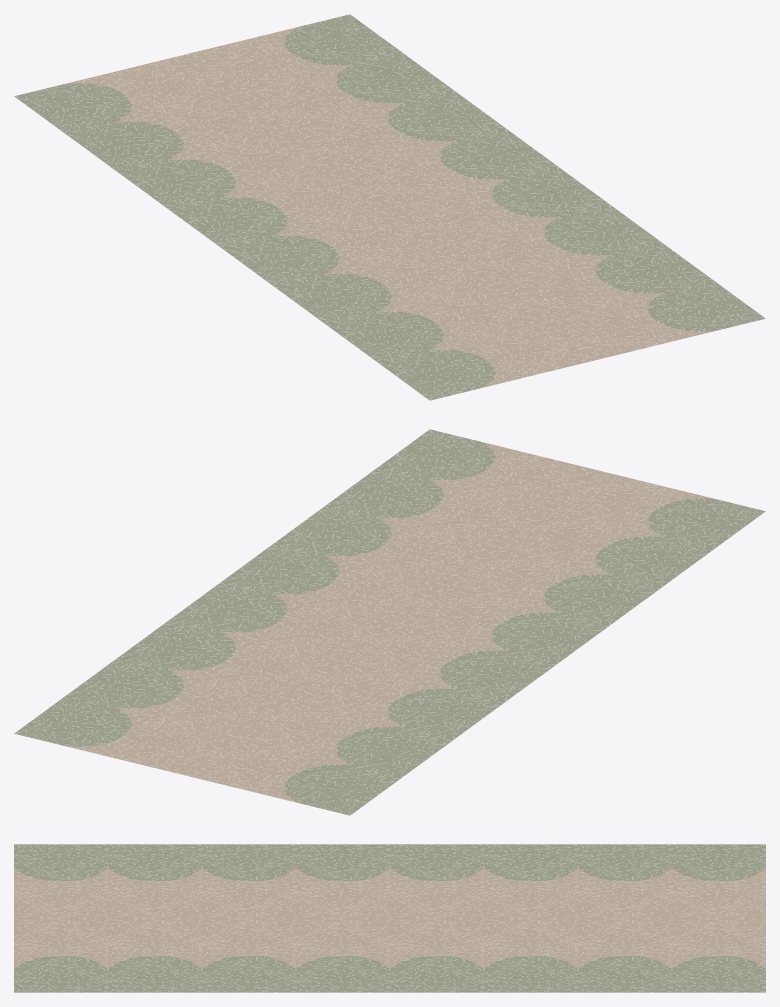
File: kd_stage_135ded_4_62_bounded.glb
3 renders of one model, top to bottom at view 1: azimuth 30°, elevation 25°; view 2: azimuth 150°, elevation 25°; view 3: azimuth 270°, elevation 25°, orthographic. The views are drawn at different scales.
Visible parts, largest first — view 1: kd_stage_135ded_4_62_bounded; view 2: kd_stage_135ded_4_62_bounded; view 3: kd_stage_135ded_4_62_bounded.
Part boxes in pixels (left/top/right/bottom): kd_stage_135ded_4_62_bounded: left=14, top=14, right=765, bottom=400; kd_stage_135ded_4_62_bounded: left=14, top=429, right=765, bottom=815; kd_stage_135ded_4_62_bounded: left=14, top=844, right=765, bottom=992.
Bounding box in the file's own units: 0.5313 × 1.19e-07 × 1.14.
Materials: 1 (1 with a texture image).
